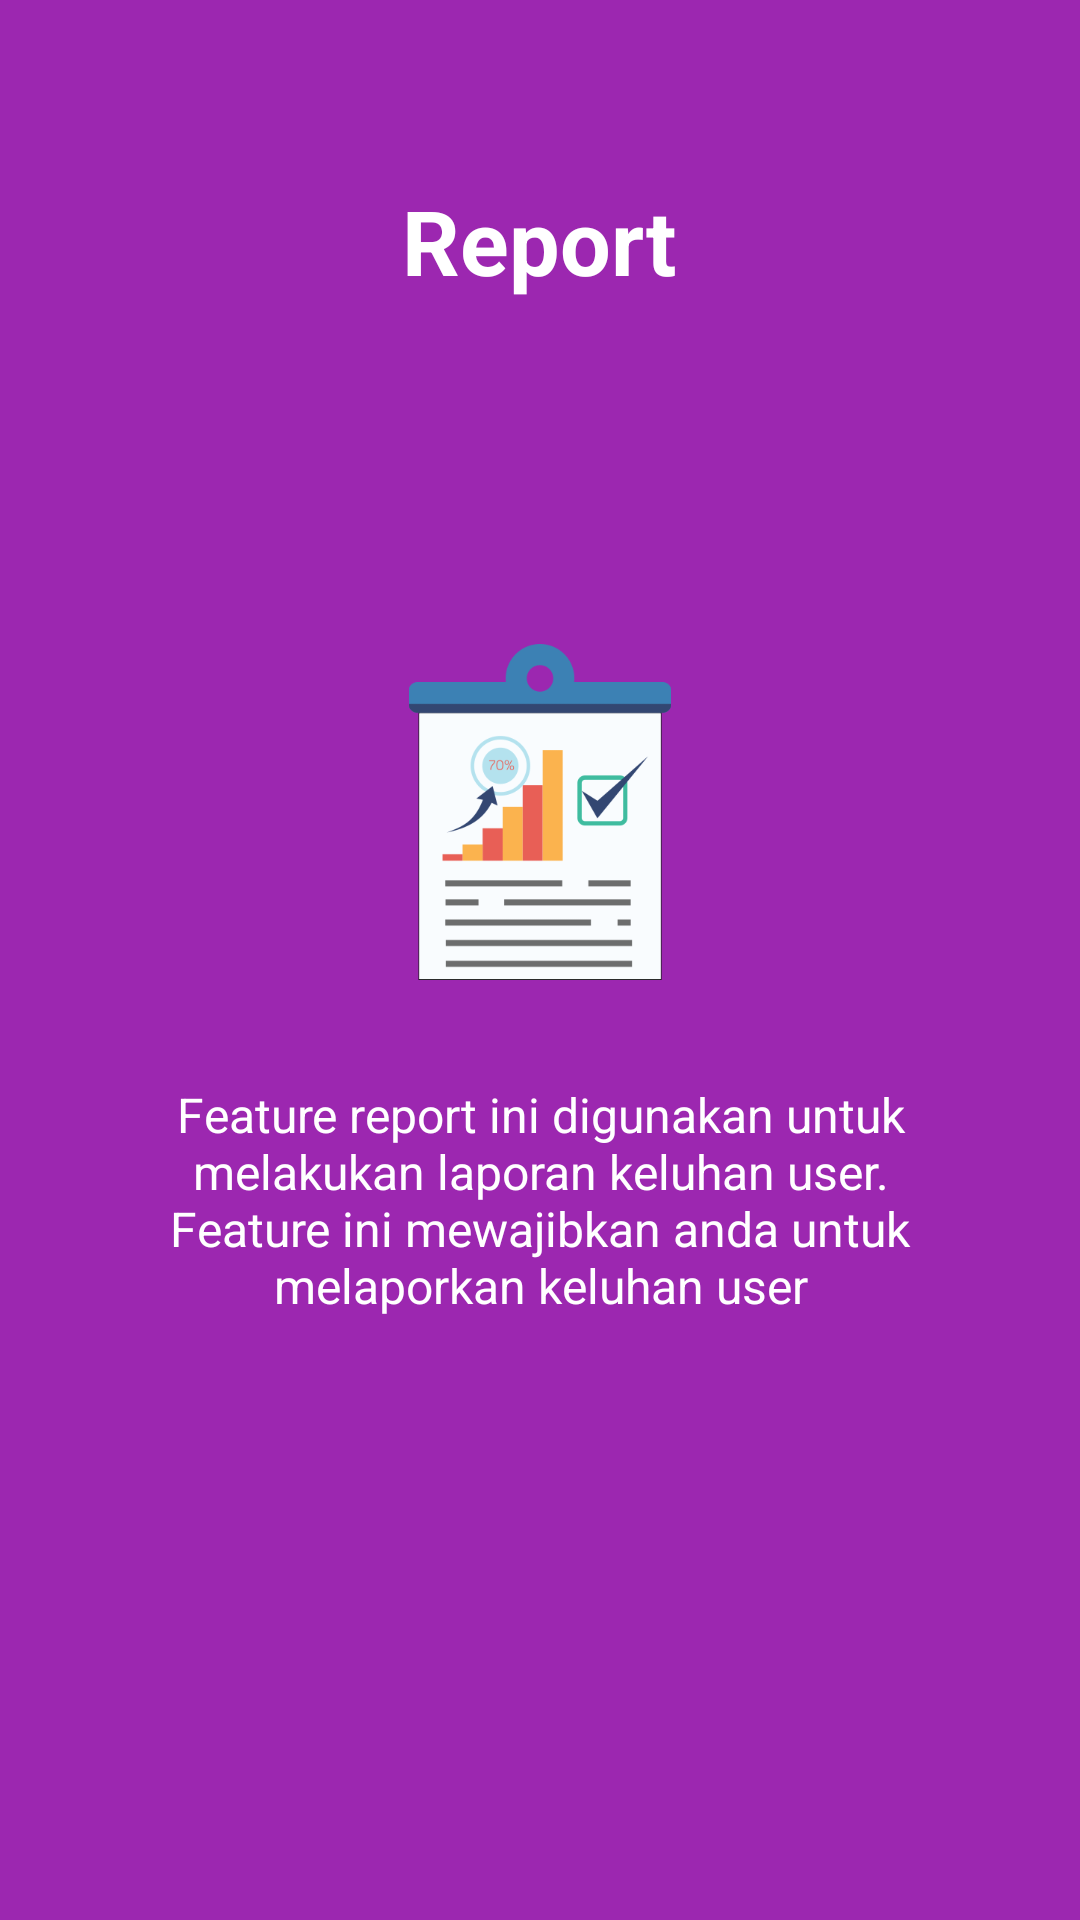

Named icons in this screenshot (1080 × 1920) and their centers, point (x, y):
tips report: point (540, 812)
